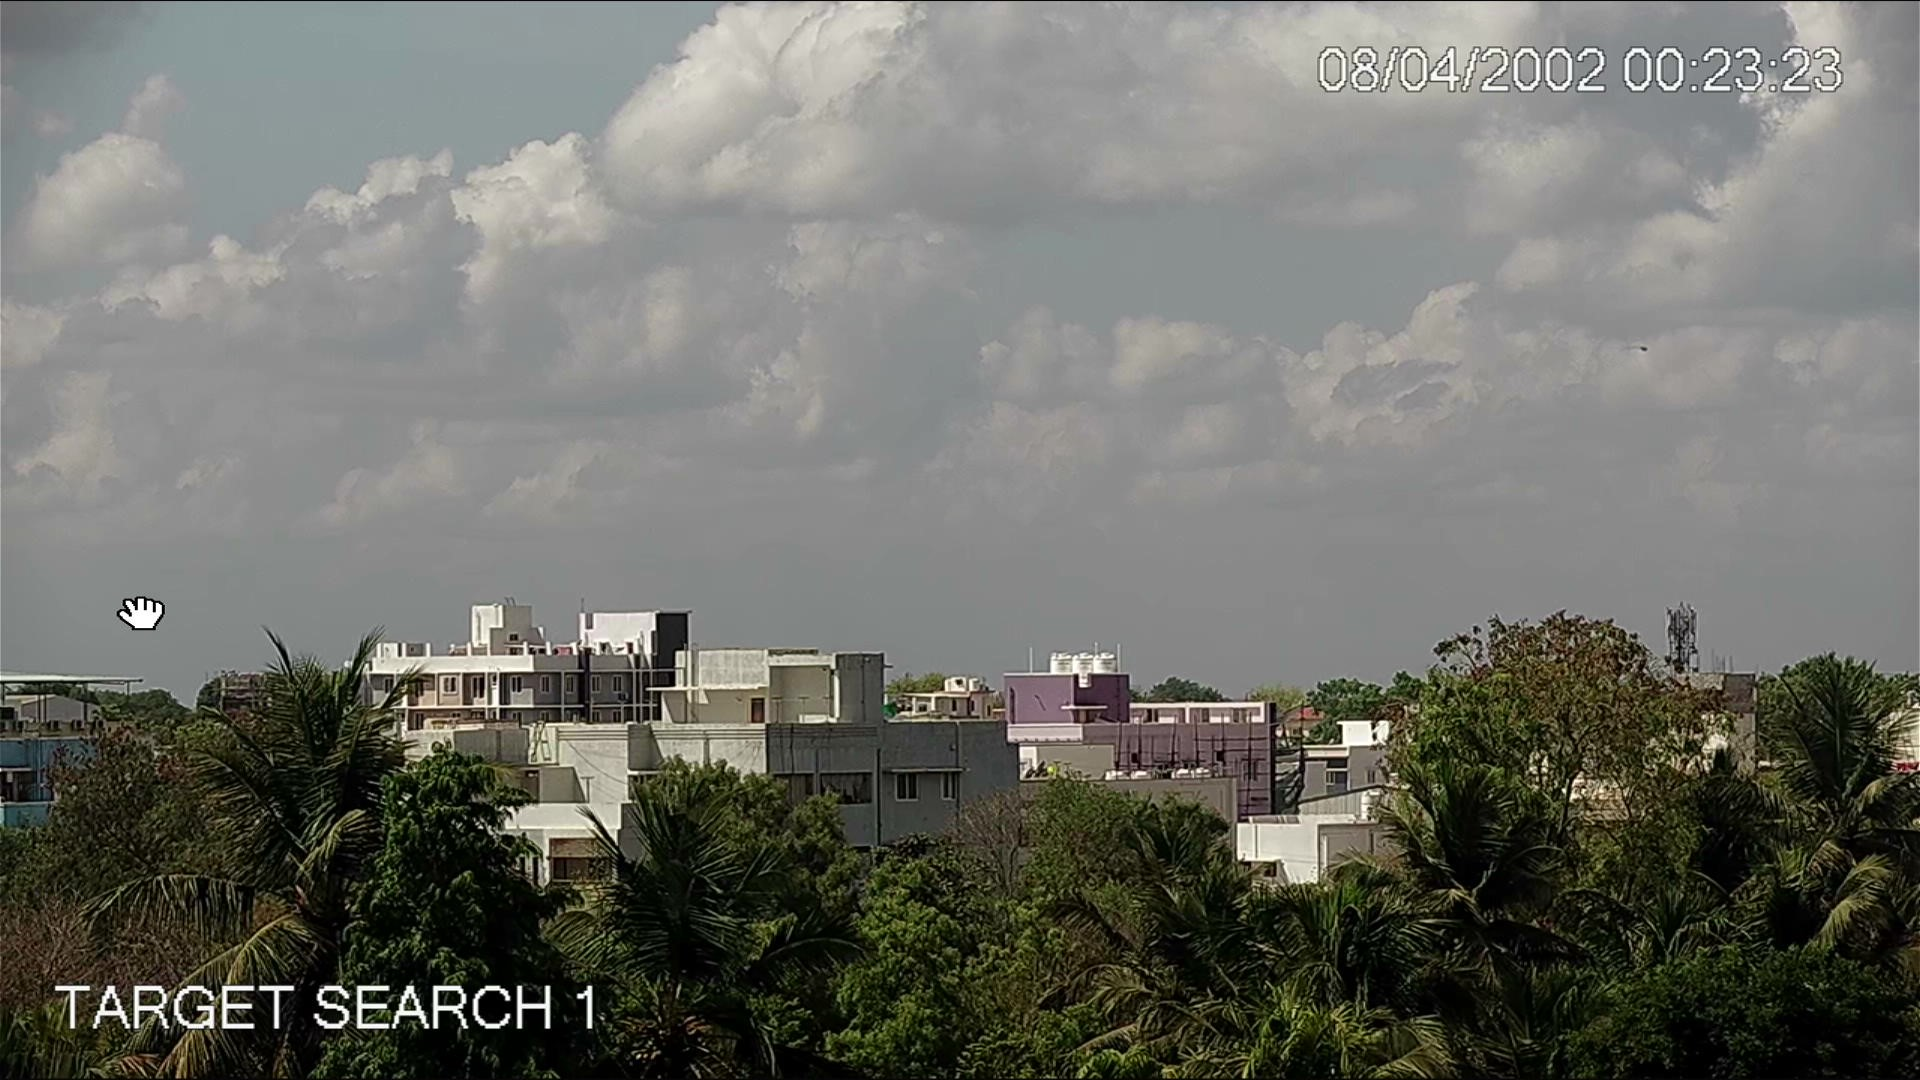SU_30: (1625, 340, 1650, 355)
